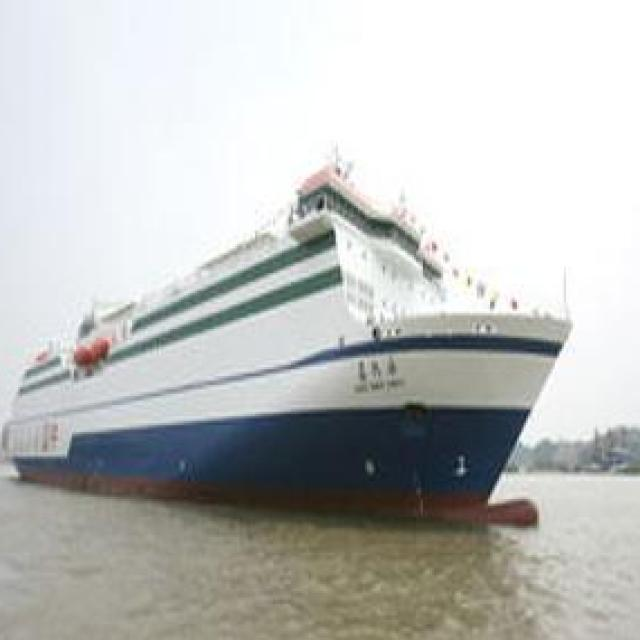passenger ship: (8, 160, 578, 505)
